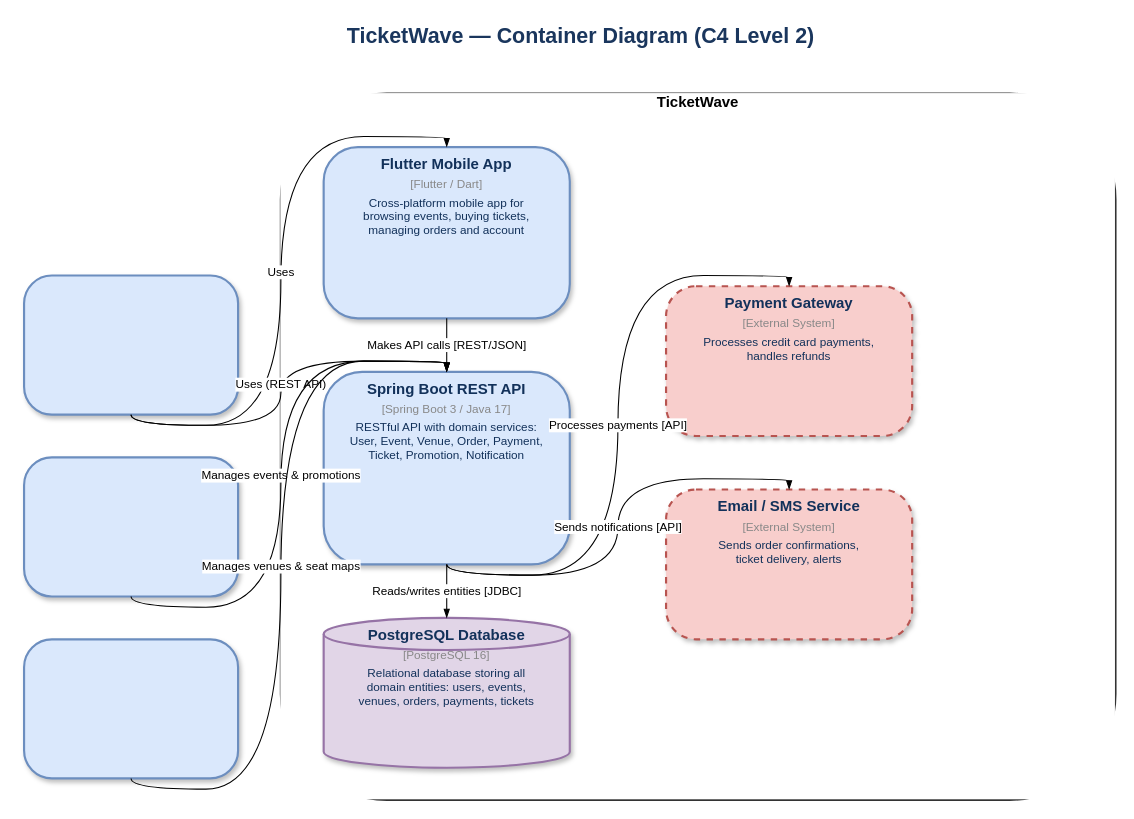
The diagram is 1134 pixels wide and 819 high, and some of its shapes have lost their labels. The shapes that lost their labels are listed below. From the top down, each one's centre as x and y in pixels, then its label:
At point (131, 346): "Customer [Person] Searches for events, buys tickets, manages orders/refunds".
At point (131, 528): "Event Organizer [Person] Publishes events, runs promotions".
At point (131, 709): "Venue Operator [Person] Manages venues, configures seat maps".
